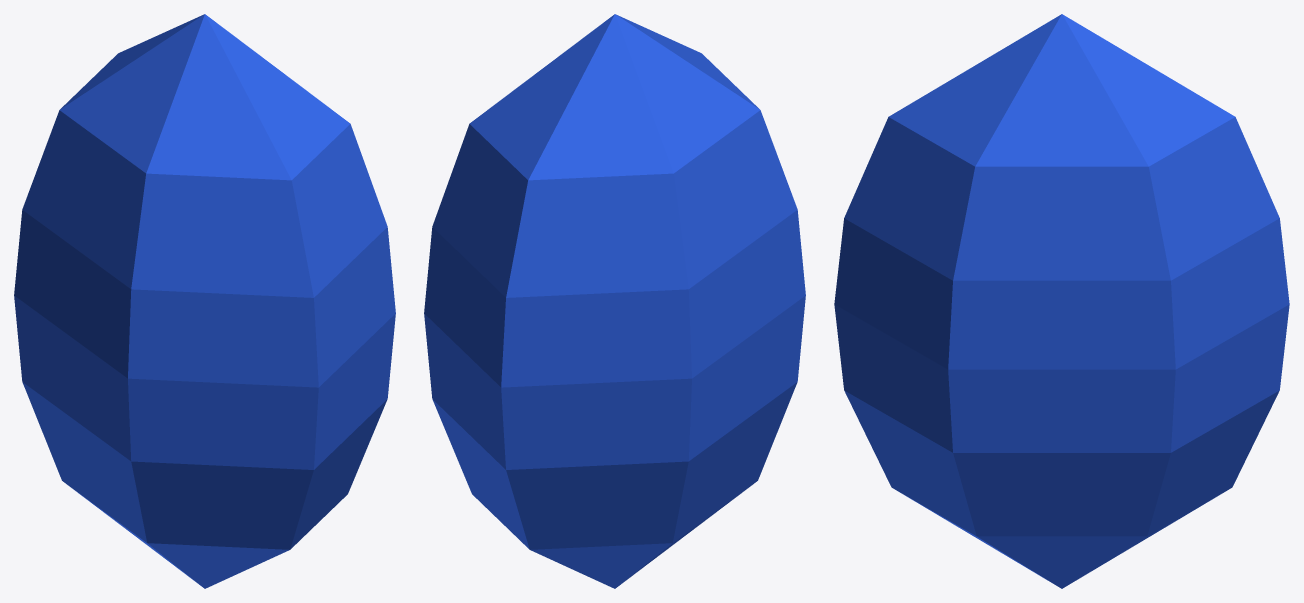
The model's file is blue_sp.fbx.
3 renders of one model, left to right at view 1: azimuth 30°, elevation 25°; view 2: azimuth 150°, elevation 25°; view 3: azimuth 270°, elevation 25°, orthographic.
Parts seen in each view (by area): view 1: Cylinder; view 2: Cylinder; view 3: Cylinder.
Part boxes in pixels (x1=…): Cylinder: x1=14, y1=14, x2=395, y2=588; Cylinder: x1=424, y1=14, x2=805, y2=588; Cylinder: x1=834, y1=14, x2=1289, y2=588.
Size of the model in its own units: 142 by 291 by 209.
